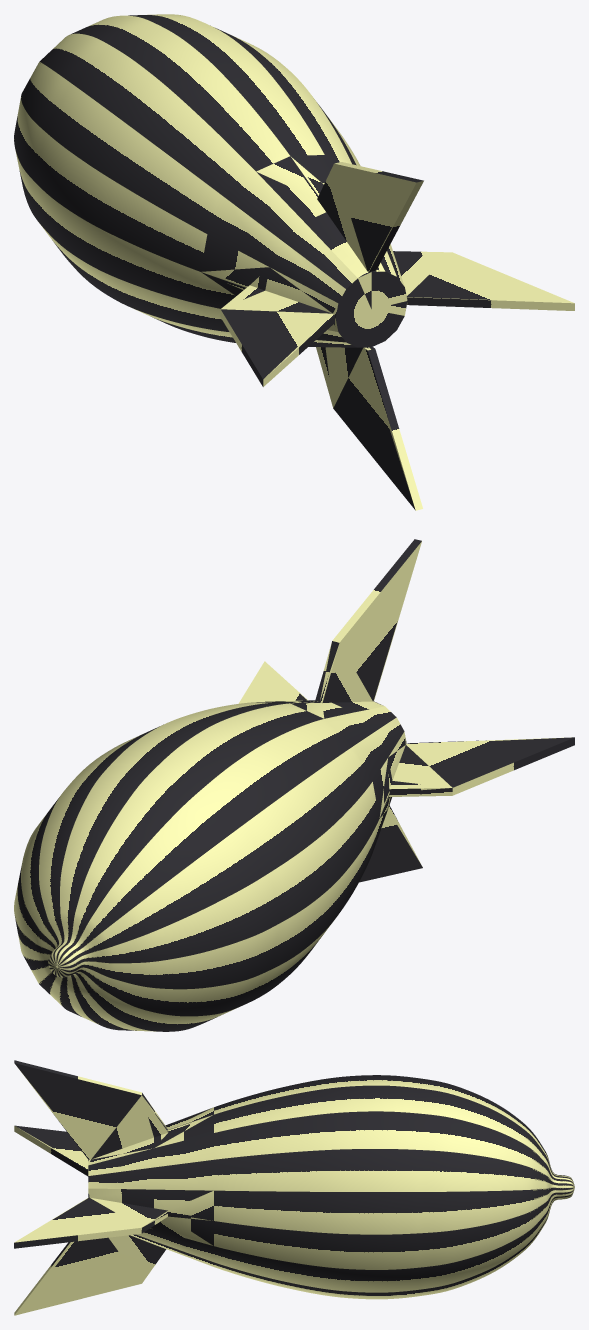
Rendered from Bomb.FBX.
The picture shows the model from 3 angles, top to bottom: view 1: azimuth 30°, elevation 25°; view 2: azimuth 150°, elevation 25°; view 3: azimuth 270°, elevation 25°; orthographic projection. The views are drawn at different scales.
Visible parts, largest first — view 1: Line01; view 2: Line01; view 3: Line01.
Boxes of the visible parts, x1,y1,x2,y2 form: Line01: (14, 14, 574, 510); Line01: (14, 539, 574, 1031); Line01: (14, 1060, 574, 1315).
Size of the model in its own units: 0.6532 by 0.657 by 1.32.
1 material, 1 textured.
